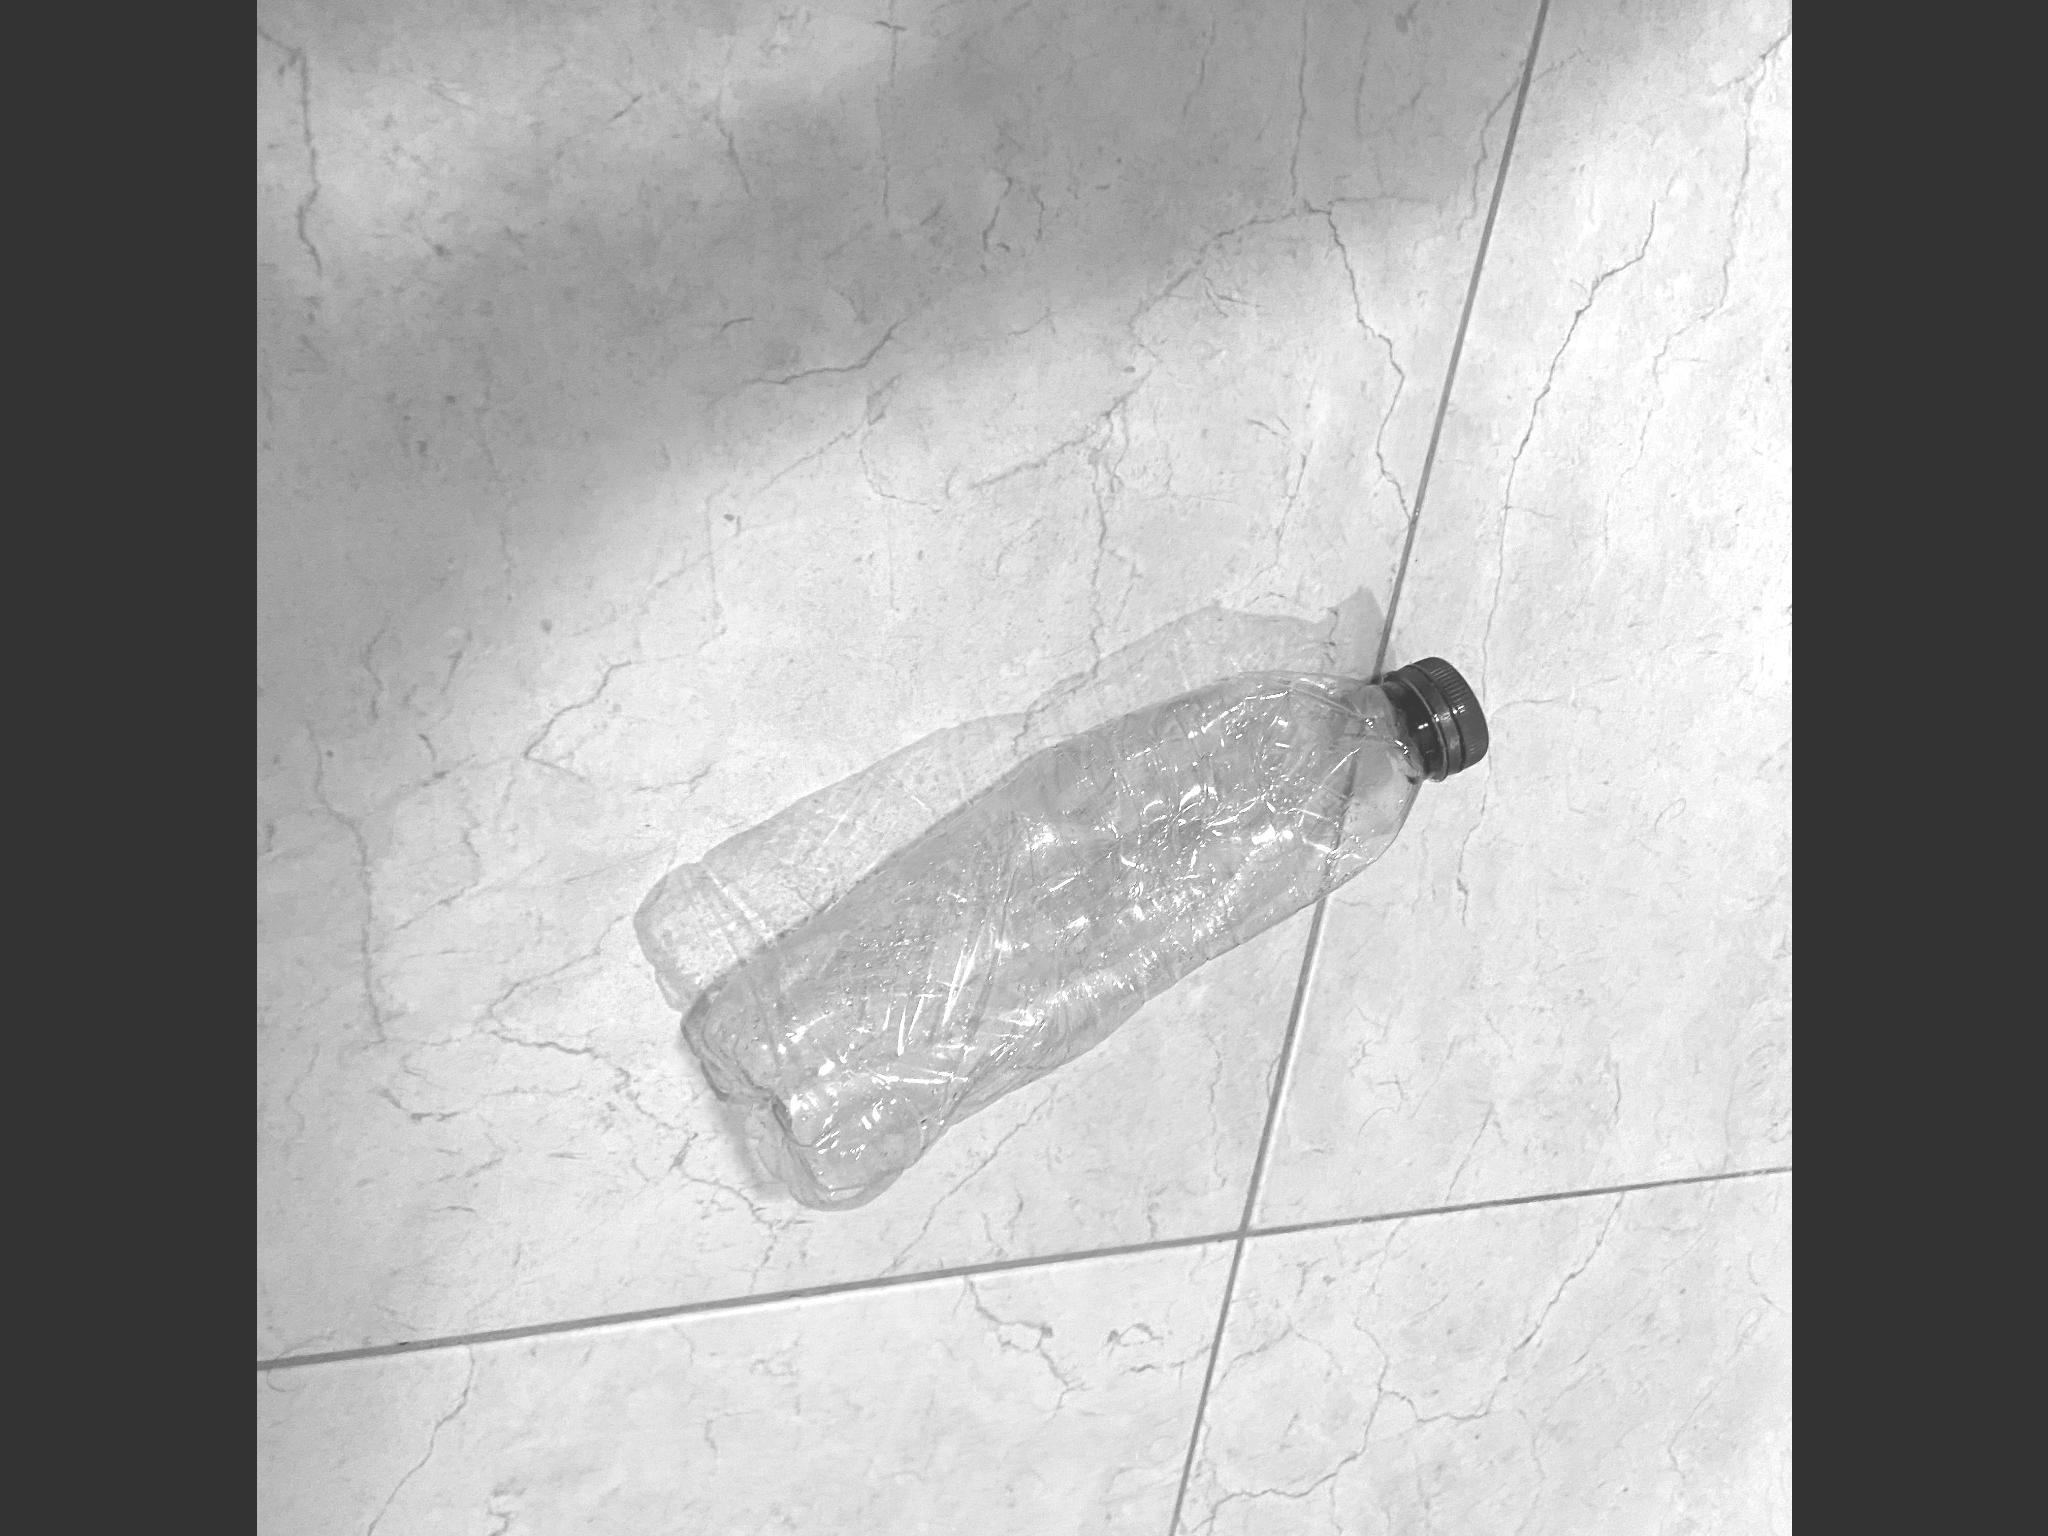bottle: (671, 648, 1501, 1230)
